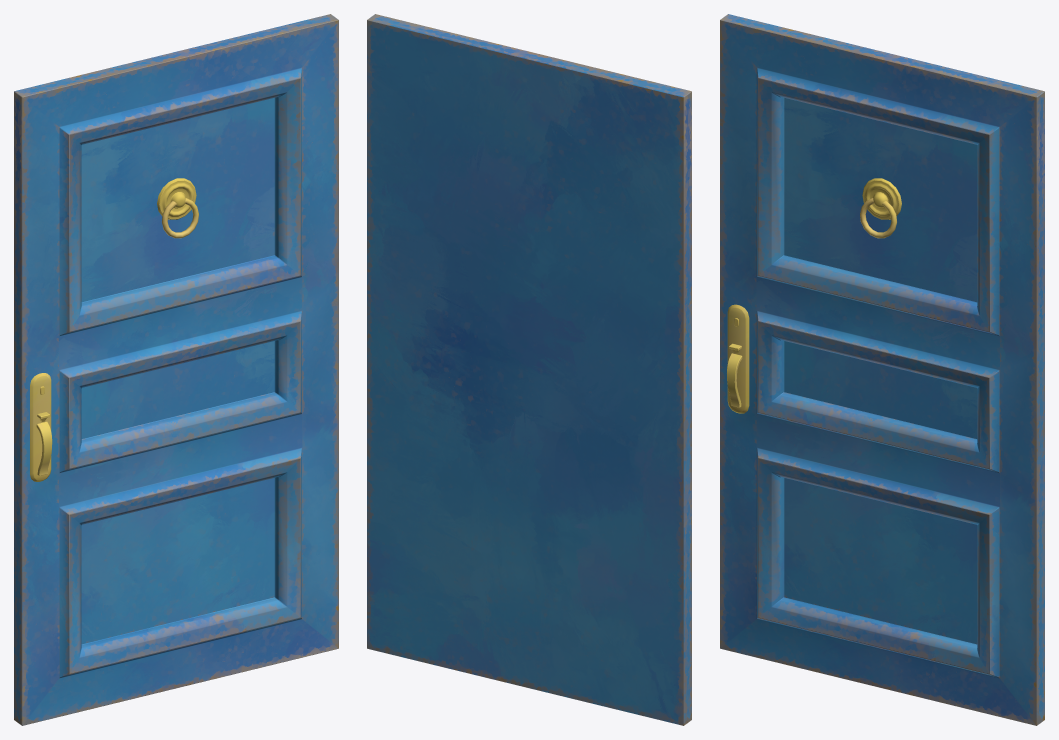
Rendered from Door 2.fbx.
3 renders of one model, left to right at view 1: azimuth 30°, elevation 25°; view 2: azimuth 150°, elevation 25°; view 3: azimuth 330°, elevation 25°, orthographic.
Parts seen in each view (by area): view 1: Door 2; view 2: Door 2; view 3: Door 2.
Part boxes in pixels (x1,y1,x2,y2): Door 2: (14,14,338,725); Door 2: (367,14,691,725); Door 2: (720,14,1044,725).
Size of the model in its own units: 101 by 191 by 8.63.
